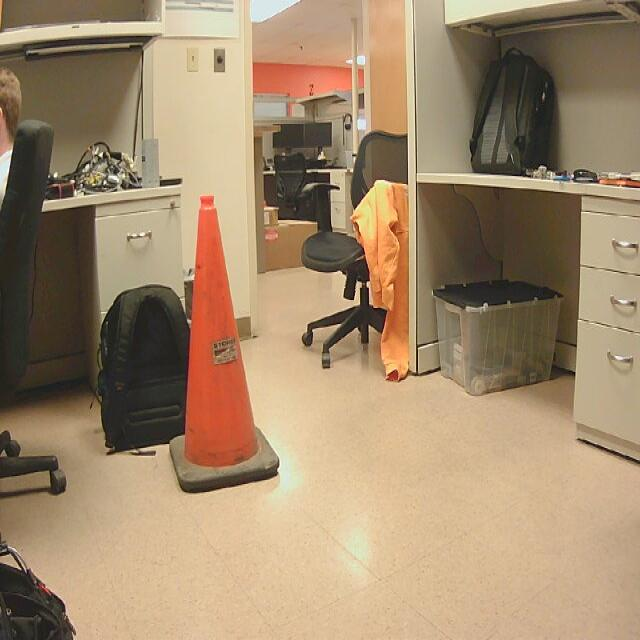traffic cone: (170, 196, 281, 497)
